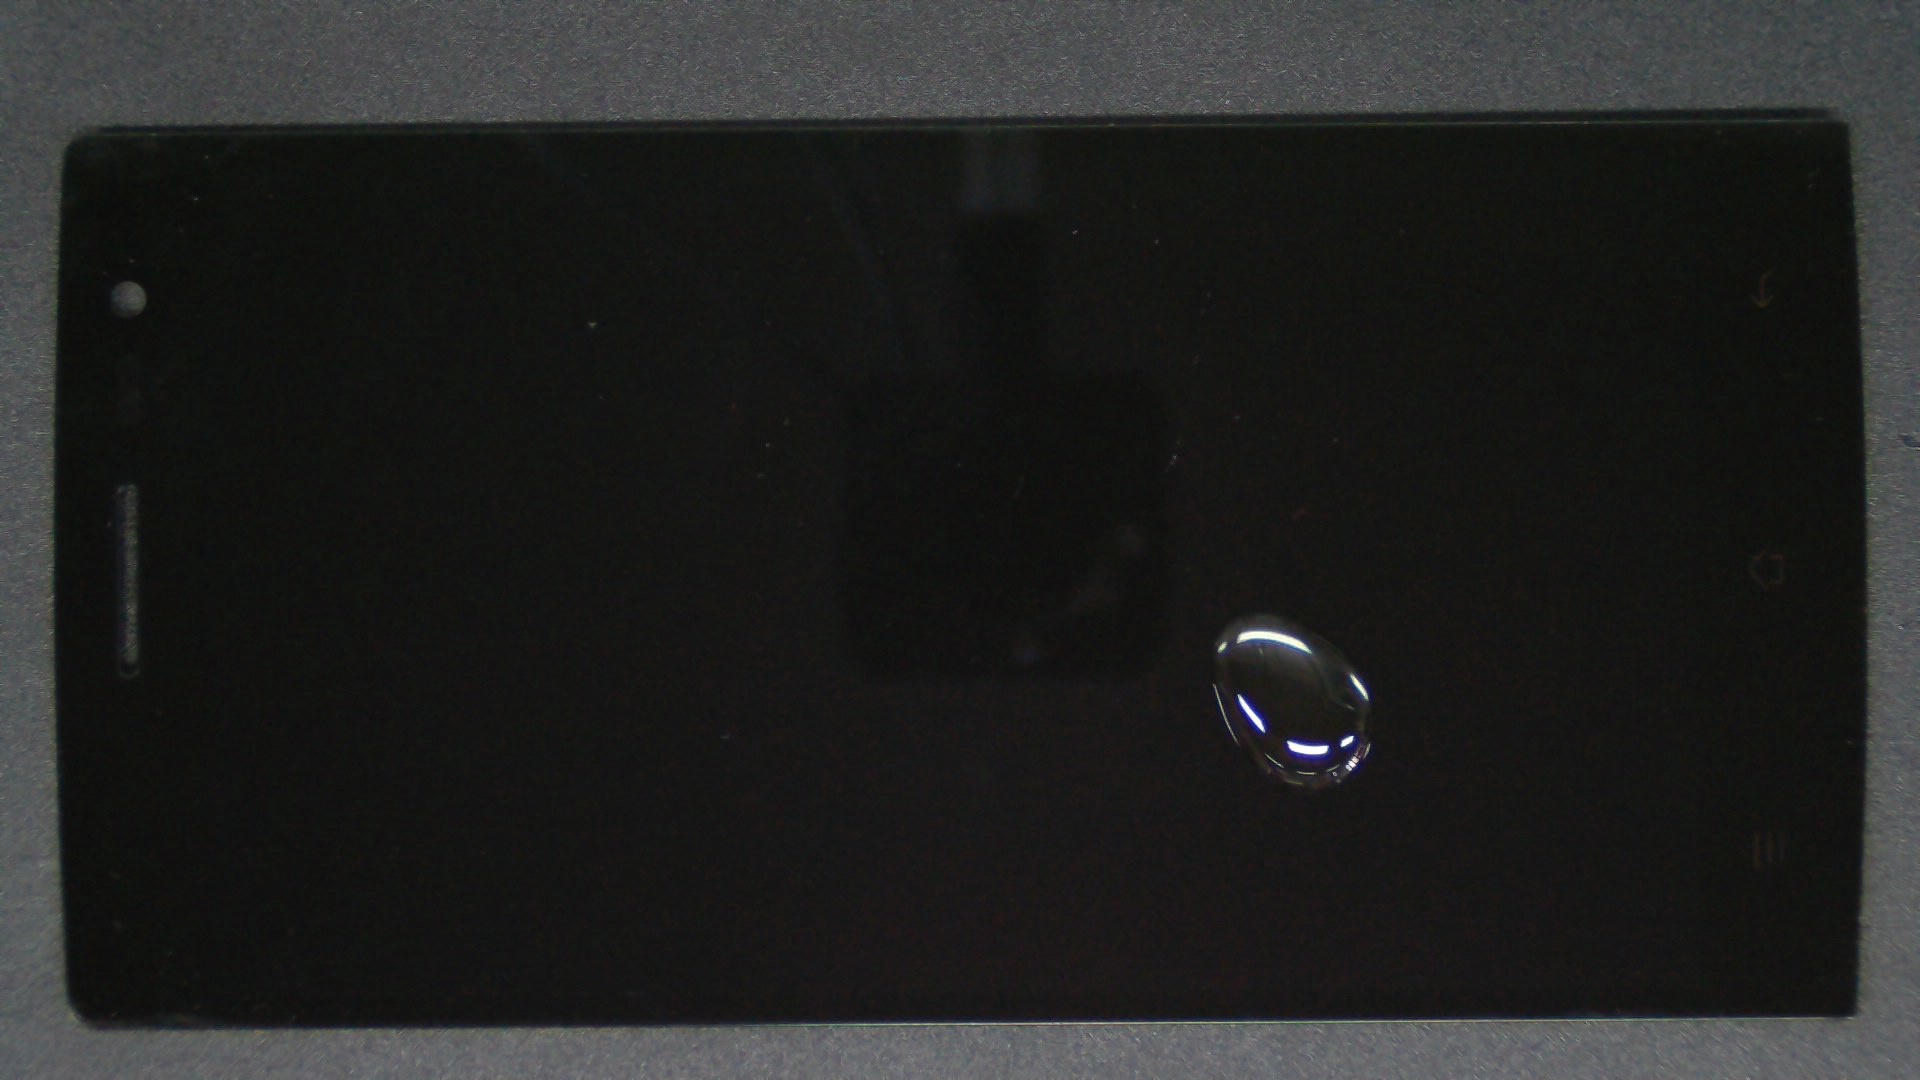oil: (629, 306, 1887, 922)
